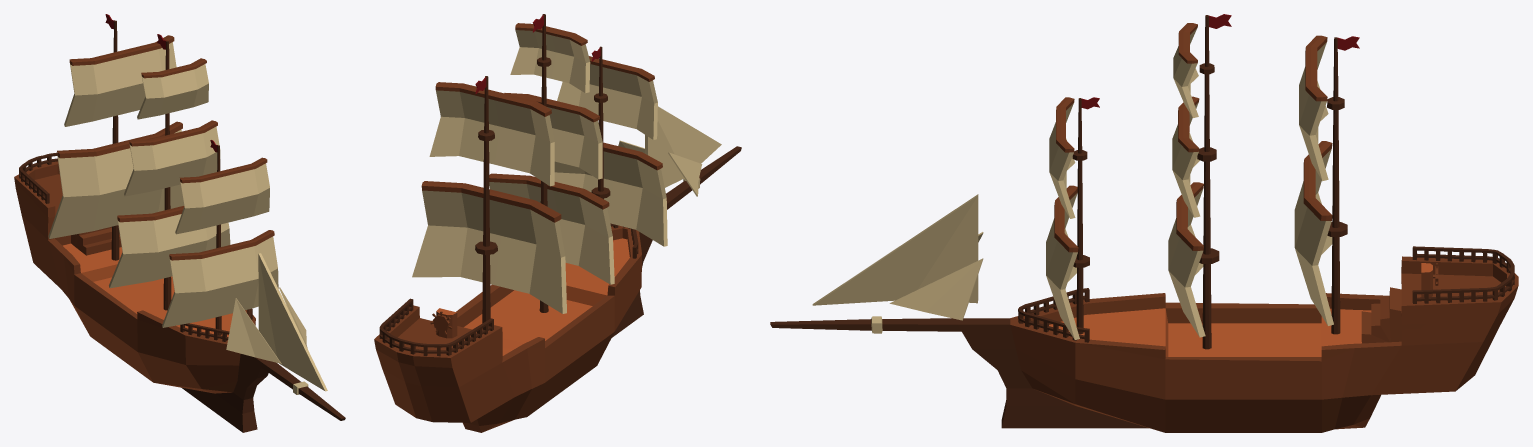
File: sailship.obj
3 renders of one model, left to right at view 1: azimuth 30°, elevation 25°; view 2: azimuth 150°, elevation 25°; view 3: azimuth 270°, elevation 25°, orthographic. The views are drawn at different scales.
Visible parts, largest first — view 1: BigShip_Wood, BackSail_Fabric, MidleSail_Fabric, Front_Sail_Fabric, BigShip_DarkWood, BigShip_Fabric, BigShip_LightWood, BackSail_Wood, MidleSail_Wood, Front_Sail_Wood; view 2: BigShip_Wood, BackSail_Fabric, MidleSail_Fabric, Front_Sail_Fabric, BigShip_DarkWood, BigShip_LightWood, BigShip_Fabric, BackSail_Wood, MidleSail_Wood, Front_Sail_Wood; view 3: BigShip_Wood, BigShip_DarkWood, BigShip_Fabric, BigShip_LightWood, BackSail_Fabric, MidleSail_Fabric, Front_Sail_Fabric, MidleSail_Wood, BackSail_Wood, Front_Sail_Wood, BigShip_DarkRed.
Part boxes in pixels (x1,y1,x2,y2): BigShip_Wood: [14, 161, 255, 393]; BackSail_Fabric: [48, 42, 183, 238]; MidleSail_Fabric: [109, 64, 230, 288]; Front_Sail_Fabric: [162, 163, 278, 327]; BigShip_DarkWood: [19, 20, 345, 432]; BigShip_Fabric: [226, 253, 327, 394]; BigShip_LightWood: [63, 235, 232, 336]; BackSail_Wood: [57, 35, 182, 158]; MidleSail_Wood: [117, 58, 217, 222]; Front_Sail_Wood: [169, 157, 274, 260]; BigShip_Wood: [374, 225, 641, 432]; BackSail_Fabric: [412, 90, 566, 313]; MidleSail_Fabric: [489, 30, 614, 284]; Front_Sail_Fabric: [554, 64, 667, 246]; BigShip_DarkWood: [379, 14, 741, 356]; BigShip_LightWood: [436, 238, 629, 355]; BigShip_Fabric: [618, 106, 721, 196]; BackSail_Wood: [421, 82, 561, 222]; MidleSail_Wood: [489, 23, 609, 209]; Front_Sail_Wood: [589, 56, 662, 170]; BigShip_Wood: [1010, 256, 1518, 432]; BigShip_DarkWood: [770, 15, 1514, 428]; BigShip_Fabric: [812, 194, 983, 333]; BigShip_LightWood: [1049, 263, 1432, 356]; BackSail_Fabric: [1294, 42, 1333, 325]; MidleSail_Fabric: [1168, 28, 1205, 337]; Front_Sail_Fabric: [1046, 103, 1079, 339]; MidleSail_Wood: [1176, 23, 1203, 250]; BackSail_Wood: [1303, 35, 1332, 220]; Front_Sail_Wood: [1054, 97, 1078, 252]; BigShip_DarkRed: [1081, 14, 1359, 109].
Bounding box in the file's own units: 1.7 × 3.85 × 6.38.
